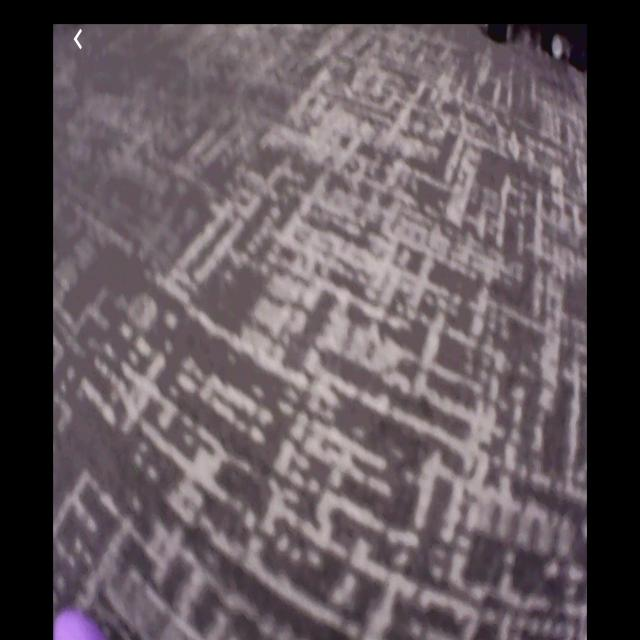ball: (53, 611, 106, 640)
